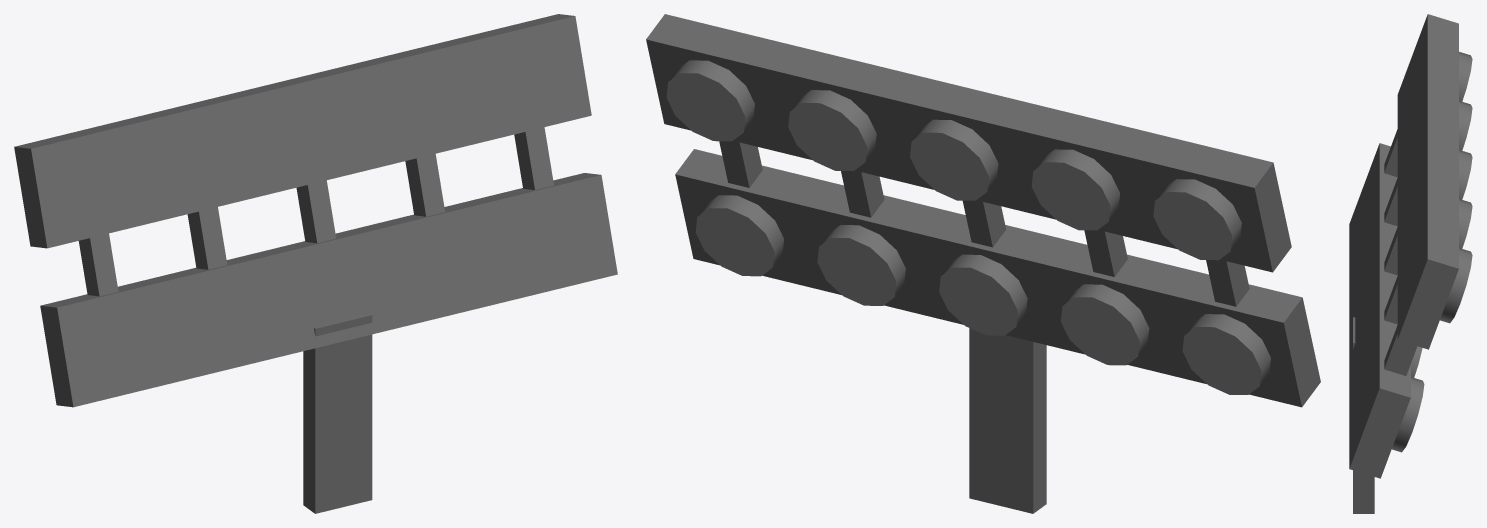
File: Mesh_Battle_Match_Light.fbx
3 renders of one model, left to right at view 1: azimuth 30°, elevation 25°; view 2: azimuth 150°, elevation 25°; view 3: azimuth 270°, elevation 25°, orthographic. The views are drawn at different scales.
Parts seen in each view (by area): view 1: Mesh_Battle_Match_Light; view 2: Mesh_Battle_Match_Light; view 3: Mesh_Battle_Match_Light.
Boxes of the visible parts, bbox=[...] form: Mesh_Battle_Match_Light: bbox=[14, 14, 617, 513]; Mesh_Battle_Match_Light: bbox=[646, 14, 1320, 513]; Mesh_Battle_Match_Light: bbox=[1349, 14, 1472, 513].
Size of the model in its own units: 1843 by 1277 by 391.
